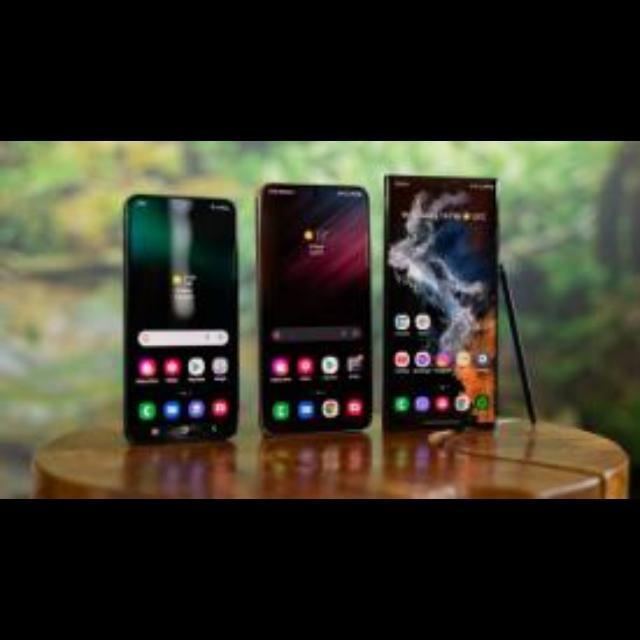phone: (99, 171, 255, 467), (374, 166, 517, 451), (246, 168, 381, 461)
